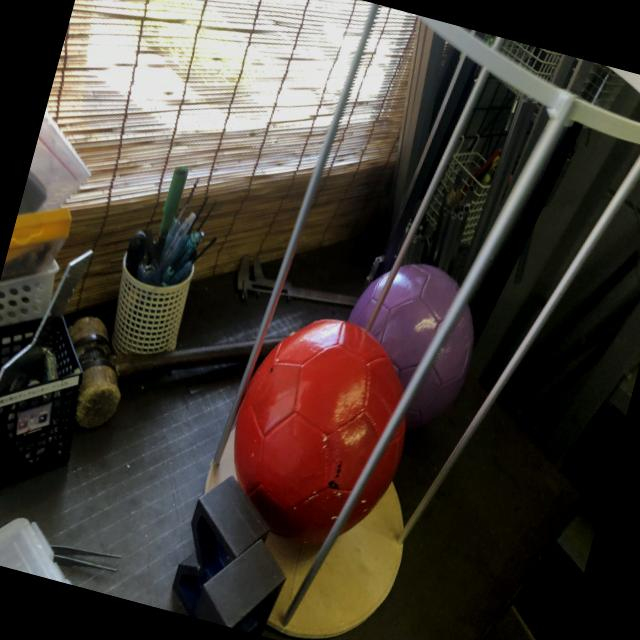purple_ball: (322, 249, 493, 445)
red_ball: (208, 301, 430, 563)
